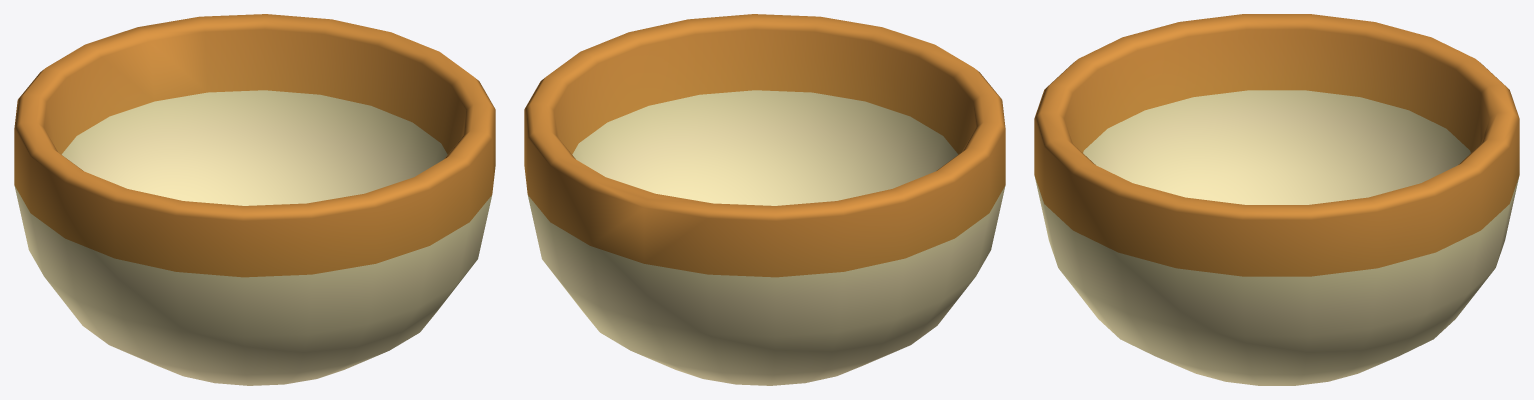
The model's file is Bowl.fbx.
3 views of the same model, side by side, from view 1: azimuth 30°, elevation 25°; view 2: azimuth 150°, elevation 25°; view 3: azimuth 270°, elevation 25° (orthographic).
Visible parts, largest first — view 1: Cylinder.009; view 2: Cylinder.009; view 3: Cylinder.009.
Part boxes in pixels (x1,y1,x2,y2): Cylinder.009: [14, 14, 495, 385]; Cylinder.009: [524, 14, 1005, 385]; Cylinder.009: [1034, 14, 1519, 385].
Bounding box in the file's own units: 2.75 × 1.48 × 2.78.
